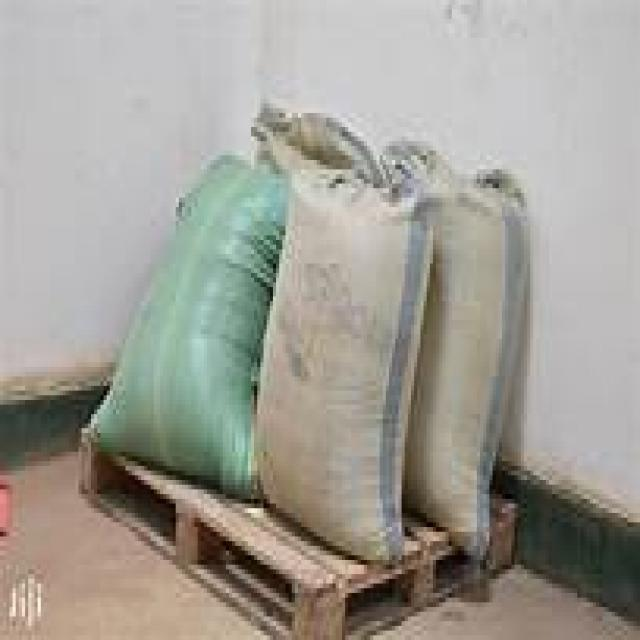gunny_bag: (83, 151, 294, 500), (251, 167, 435, 565), (405, 149, 530, 557)
